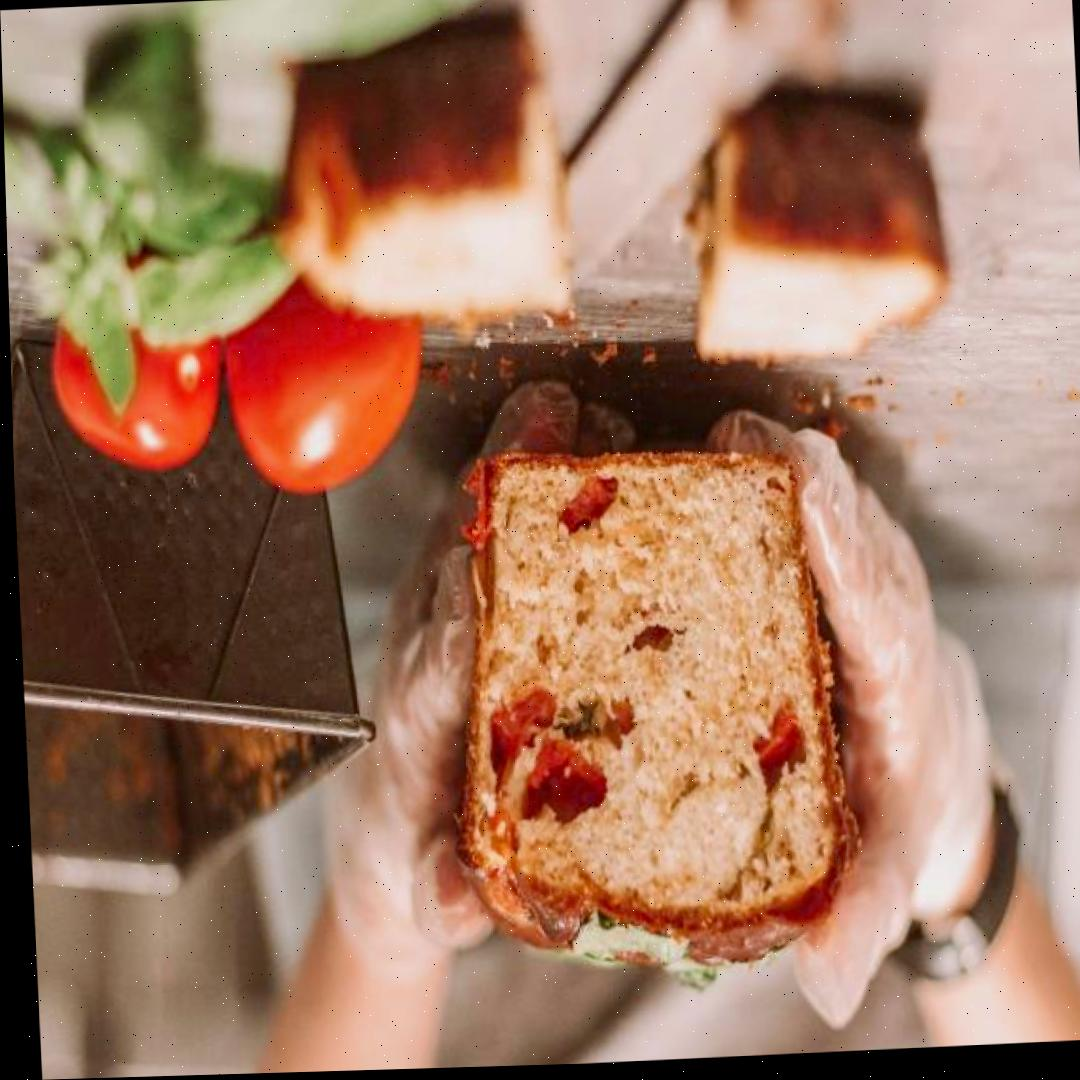matang: (217, 235, 434, 505), (46, 237, 225, 474)
